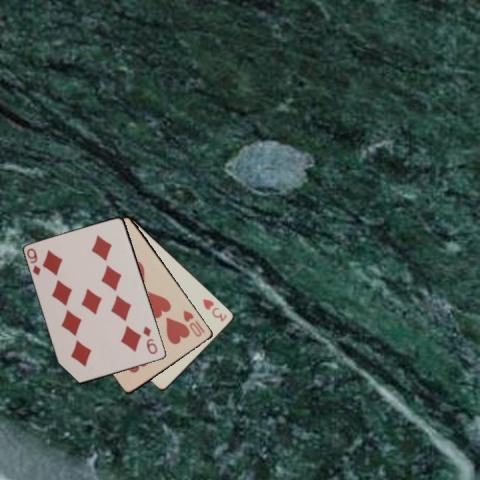10h: (180, 307, 206, 338)
3h: (200, 296, 229, 323)
9d: (140, 323, 159, 356), (24, 246, 42, 278)
